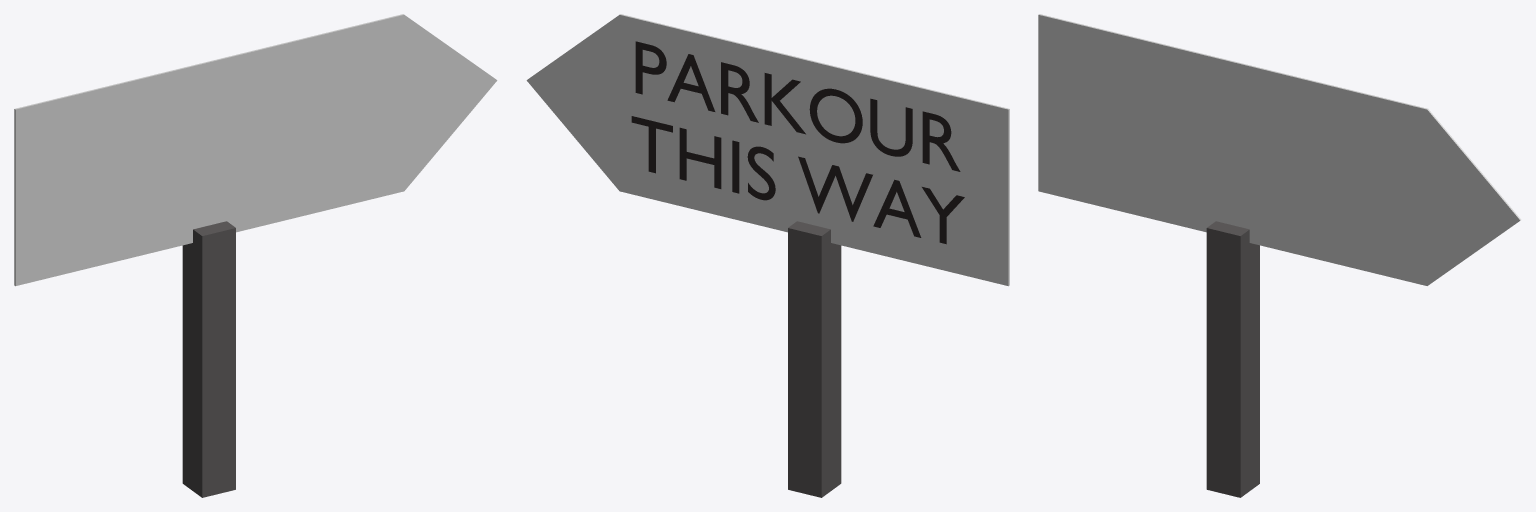
Rendered from parkSignA.gltf.
3 renders of one model, left to right at view 1: azimuth 30°, elevation 25°; view 2: azimuth 150°, elevation 25°; view 3: azimuth 330°, elevation 25°, orthographic.
Parts seen in each view (by area): view 1: parkSignAA; view 2: parkSignAA; view 3: parkSignAA.
Boxes of the visible parts, bbox=[...] form: parkSignAA: bbox=[14, 14, 497, 497]; parkSignAA: bbox=[526, 14, 1009, 497]; parkSignAA: bbox=[1038, 14, 1521, 497].
Bounding box in the file's own units: 2.48 × 2.09 × 0.1739.
Materials: 1 (1 with a texture image).
